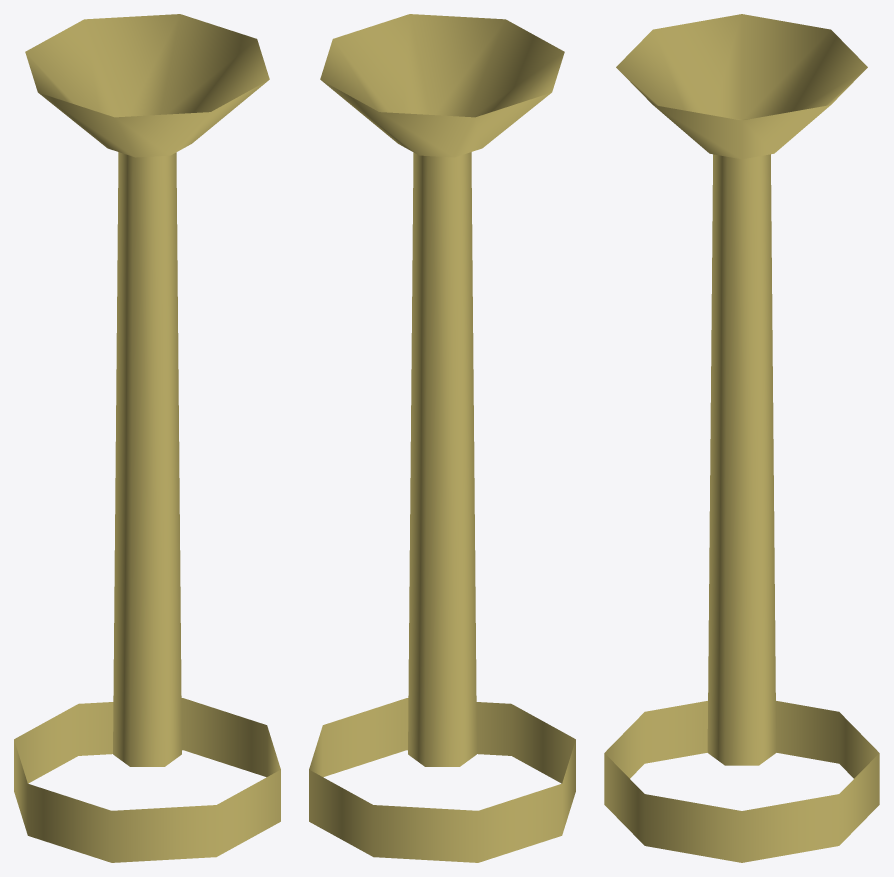
Rendered from bronze_art_object.glb.
3 renders of one model, left to right at view 1: azimuth 30°, elevation 25°; view 2: azimuth 150°, elevation 25°; view 3: azimuth 270°, elevation 25°, orthographic.
Parts seen in each view (by area): view 1: Stem_Node, OilBowl_Node, LampBase_Node; view 2: Stem_Node, OilBowl_Node, LampBase_Node; view 3: Stem_Node, LampBase_Node, OilBowl_Node.
Boxes of the visible parts, x1=… form: Stem_Node: x1=113, y1=152, x2=181, y2=766; OilBowl_Node: x1=25, y1=14, x2=269, y2=157; LampBase_Node: x1=14, y1=698, x2=280, y2=862; Stem_Node: x1=408, y1=152, x2=476, y2=766; OilBowl_Node: x1=320, y1=14, x2=564, y2=157; LampBase_Node: x1=309, y1=698, x2=575, y2=862; Stem_Node: x1=707, y1=119, x2=776, y2=765; LampBase_Node: x1=604, y1=701, x2=879, y2=862; OilBowl_Node: x1=616, y1=14, x2=867, y2=159.
Size of the model in its own units: 0.48 by 1.42 by 0.48.
